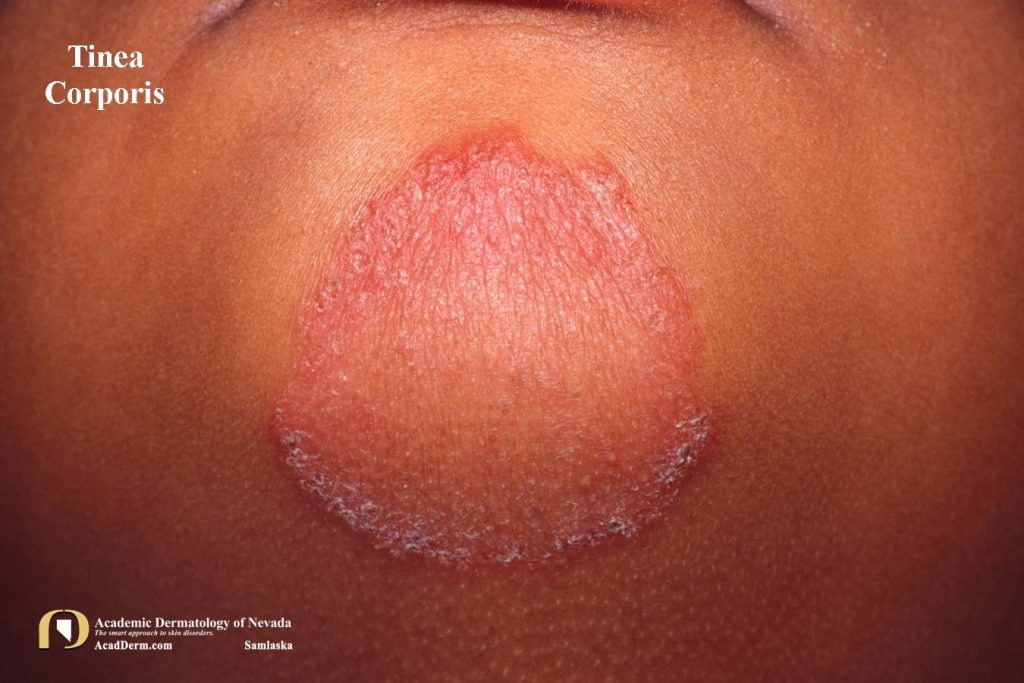Ringworm: (252, 98, 762, 602)
